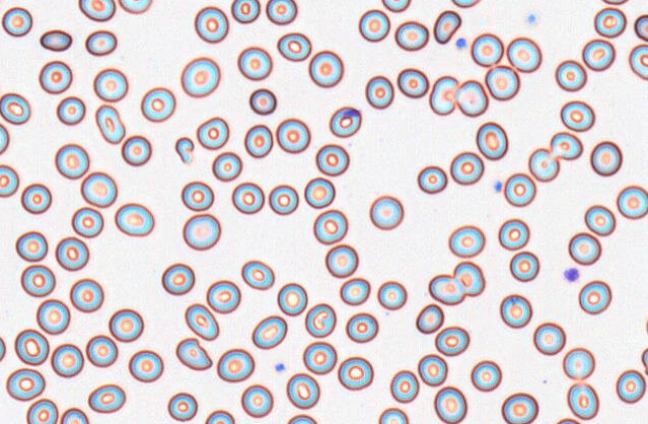PLT: (563, 267, 581, 283), (526, 13, 540, 26), (455, 37, 467, 50), (492, 180, 503, 194)
RBC: (180, 56, 220, 97), (182, 213, 221, 250), (5, 367, 45, 401), (114, 202, 154, 236), (80, 171, 117, 207), (184, 302, 219, 340), (308, 49, 343, 87), (484, 64, 520, 100), (14, 328, 49, 365), (285, 372, 320, 409), (433, 385, 467, 423), (216, 348, 254, 382), (194, 5, 228, 43), (475, 121, 508, 160), (251, 314, 287, 349), (140, 86, 175, 122), (54, 143, 89, 179), (313, 208, 348, 244), (369, 194, 404, 230), (506, 36, 541, 72), (275, 117, 310, 153), (455, 79, 488, 117), (566, 382, 599, 420), (94, 104, 125, 144), (93, 67, 128, 102), (36, 298, 70, 334), (337, 356, 373, 390), (448, 224, 485, 257), (428, 273, 466, 305), (428, 75, 458, 115), (108, 308, 143, 342), (206, 279, 241, 313), (20, 263, 55, 297), (449, 151, 484, 185), (324, 243, 358, 278), (55, 236, 89, 271), (578, 279, 612, 314), (237, 46, 272, 80), (452, 260, 485, 296), (69, 278, 103, 312), (50, 343, 84, 377), (38, 60, 72, 94), (532, 321, 566, 355), (240, 383, 273, 418), (470, 32, 503, 67), (302, 341, 337, 374), (128, 349, 163, 382), (499, 293, 532, 328), (590, 140, 622, 176), (501, 392, 538, 423), (87, 383, 125, 413), (503, 172, 536, 206), (161, 262, 195, 295), (568, 231, 601, 265), (562, 346, 595, 380), (315, 143, 349, 176), (581, 38, 615, 71), (304, 302, 336, 337), (560, 100, 595, 132), (85, 334, 118, 367), (231, 181, 264, 214), (196, 116, 229, 149), (358, 8, 390, 42), (616, 184, 647, 219), (394, 20, 429, 51), (434, 325, 469, 356), (528, 147, 559, 182), (554, 59, 587, 91), (276, 282, 307, 316), (615, 369, 646, 403), (180, 180, 214, 211), (276, 31, 311, 61), (364, 74, 394, 109), (71, 206, 103, 238), (470, 359, 502, 391), (303, 176, 335, 208), (497, 218, 529, 250), (584, 204, 616, 236), (329, 105, 361, 137), (396, 67, 429, 98), (593, 7, 626, 38), (345, 312, 378, 343), (15, 230, 48, 261), (241, 259, 274, 290), (389, 369, 419, 403), (244, 123, 273, 158), (20, 182, 51, 214), (417, 353, 447, 386), (549, 131, 583, 160), (1, 6, 32, 37), (0, 92, 30, 124), (121, 134, 151, 166), (509, 250, 539, 282), (376, 280, 407, 310), (211, 151, 242, 181), (268, 184, 298, 215), (167, 391, 197, 421), (415, 303, 444, 334), (416, 165, 447, 194), (56, 95, 85, 125), (339, 277, 370, 305), (85, 29, 117, 56), (26, 398, 58, 423), (265, 0, 297, 25), (248, 87, 276, 115), (78, 0, 115, 21), (39, 28, 72, 51), (628, 43, 647, 80), (230, 0, 260, 23), (0, 163, 19, 197), (378, 406, 408, 423), (59, 407, 89, 423), (118, 0, 152, 14), (204, 409, 234, 423), (634, 13, 647, 41), (381, 0, 411, 12), (286, 413, 317, 423), (0, 123, 9, 154), (451, 0, 481, 8), (641, 346, 647, 375), (0, 335, 6, 361), (555, 417, 580, 423), (601, 0, 629, 5), (644, 314, 648, 336), (0, 71, 2, 96)
Schistocyte: (173, 337, 212, 371), (432, 9, 462, 45), (174, 136, 196, 165)
